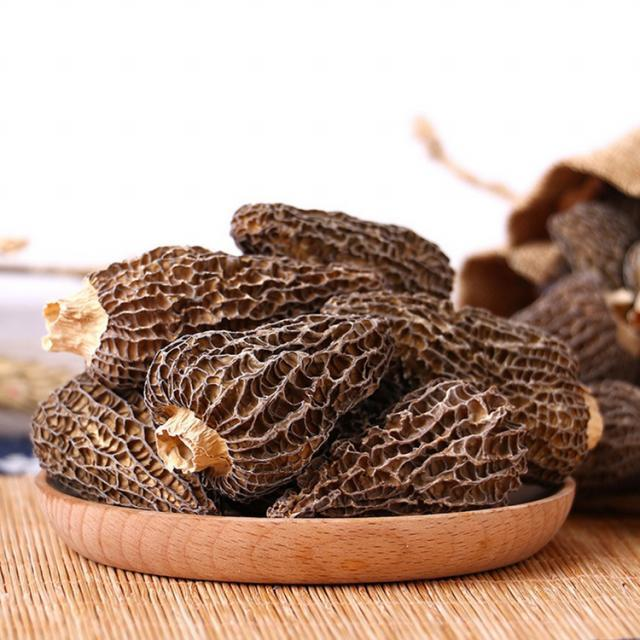Morchella esculenta: (39, 200, 605, 513)
